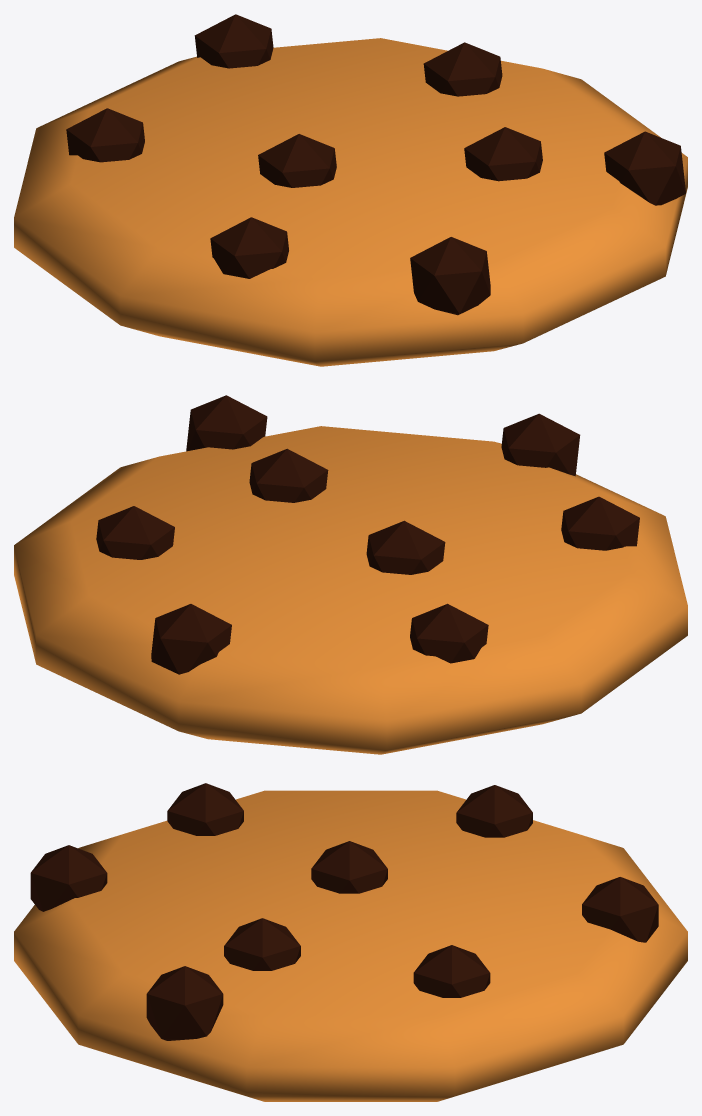
File: Biscotto.fbx
The picture shows the model from 3 angles, top to bottom: view 1: azimuth 30°, elevation 25°; view 2: azimuth 150°, elevation 25°; view 3: azimuth 270°, elevation 25°; orthographic projection. The views are drawn at different scales.
Visible parts, largest first — view 1: Cylinder, Icosphere.006, Icosphere.005, Icosphere.001, Icosphere.002, Icosphere.003, Icosphere, Icosphere.004, Icosphere.007; view 2: Cylinder, Icosphere.003, Icosphere.006, Icosphere.002, Icosphere.005, Icosphere.001, Icosphere.004, Icosphere, Icosphere.007; view 3: Cylinder, Icosphere.005, Icosphere.006, Icosphere.003, Icosphere.007, Icosphere.002, Icosphere.004, Icosphere, Icosphere.001.
Part boxes in pixels (x1=…): Cylinder: x1=14, y1=38, x2=687, y2=366; Icosphere.006: x1=410, y1=237, x2=490, y2=315; Icosphere.005: x1=604, y1=131, x2=685, y2=205; Icosphere.001: x1=210, y1=217, x2=288, y2=278; Icosphere.002: x1=66, y1=108, x2=144, y2=162; Icosphere.003: x1=194, y1=14, x2=273, y2=68; Icosphere: x1=258, y1=134, x2=336, y2=187; Icosphere.004: x1=464, y1=127, x2=542, y2=181; Icosphere.007: x1=423, y1=42, x2=502, y2=96; Cylinder: x1=14, y1=426, x2=687, y2=754; Icosphere.003: x1=151, y1=604, x2=231, y2=674; Icosphere.006: x1=501, y1=413, x2=580, y2=476; Icosphere.002: x1=410, y1=603, x2=488, y2=663; Icosphere.005: x1=186, y1=395, x2=267, y2=451; Icosphere.001: x1=561, y1=496, x2=639, y2=550; Icosphere.004: x1=249, y1=448, x2=328, y2=502; Icosphere: x1=366, y1=520, x2=445, y2=574; Icosphere.007: x1=96, y1=506, x2=174, y2=559; Cylinder: x1=14, y1=790, x2=687, y2=1101; Icosphere.005: x1=146, y1=966, x2=223, y2=1040; Icosphere.006: x1=30, y1=845, x2=107, y2=911; Icosphere.003: x1=582, y1=877, x2=658, y2=942; Icosphere.007: x1=413, y1=945, x2=490, y2=997; Icosphere.002: x1=456, y1=785, x2=532, y2=837; Icosphere.004: x1=224, y1=918, x2=300, y2=970; Icosphere: x1=311, y1=841, x2=387, y2=893; Icosphere.001: x1=167, y1=783, x2=243, y2=835.
Size of the model in its own units: 176 by 37.39 by 185.
